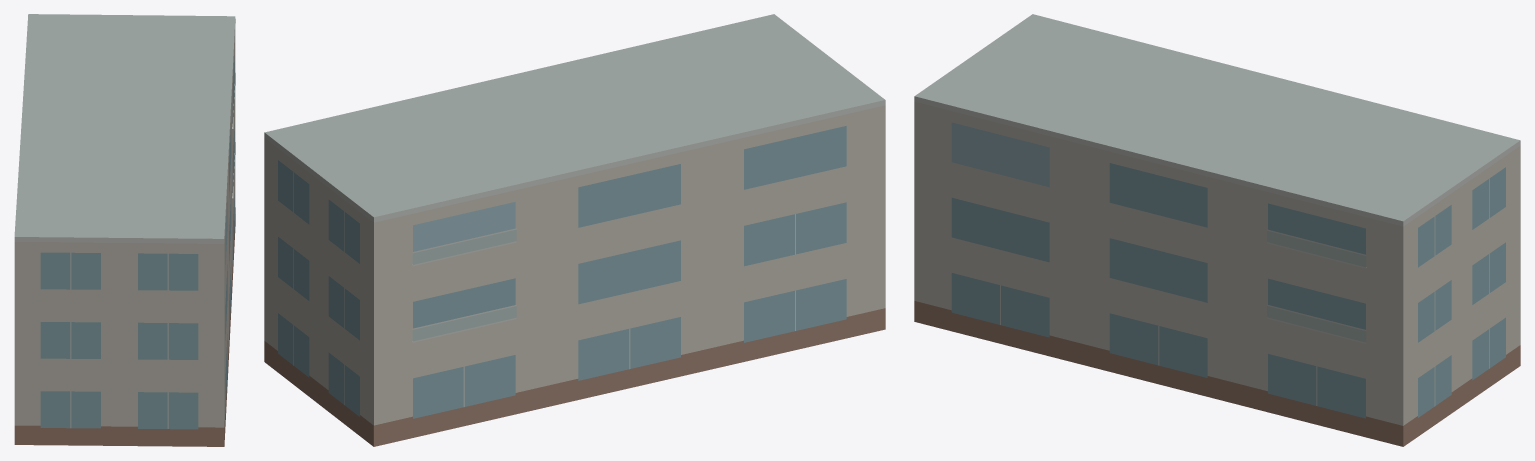
File: survey-upis-32684622.glb
The picture shows the model from 3 angles, left to right: view 1: azimuth 30°, elevation 25°; view 2: azimuth 150°, elevation 25°; view 3: azimuth 270°, elevation 25°; orthographic projection. The views are drawn at different scales.
Parts seen in each view (by area): view 1: survey-upis-32684622.tmp; view 2: survey-upis-32684622.tmp; view 3: survey-upis-32684622.tmp.
Part boxes in pixels (box(x1,y1,x2,y2)): survey-upis-32684622.tmp: box(14, 14, 235, 446); survey-upis-32684622.tmp: box(264, 14, 885, 446); survey-upis-32684622.tmp: box(914, 14, 1520, 446).
Bounding box in the file's own units: 20.71 × 10.5 × 25.58.
